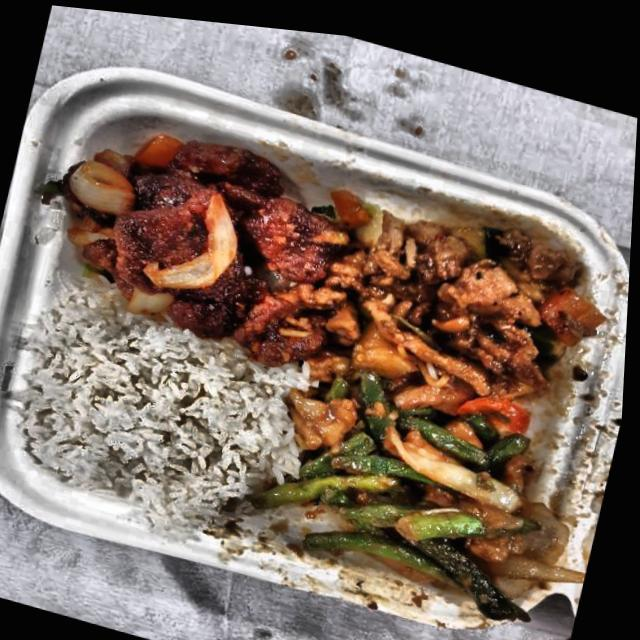Food: (32, 84, 365, 366), (297, 153, 620, 431), (5, 281, 308, 543), (276, 350, 575, 611)
